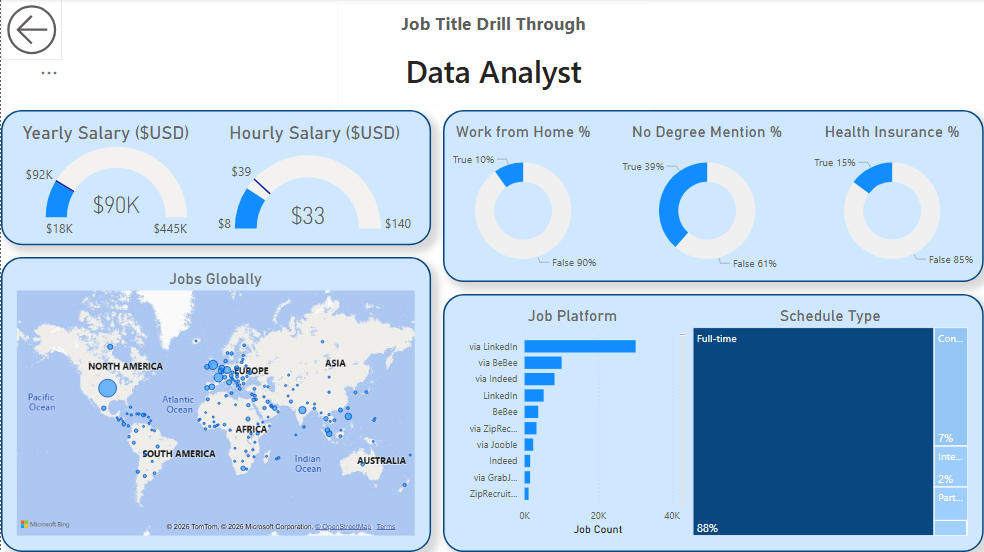

Layout of this report page (visuals, bound fields, positions):
{"tool":"powerbi","page":{"name":"Job Title Drill Through","canvas":[1280,720],"ordinal":1},"visuals":[{"type":"group","id":"g1","title":"Background","box":[0,144,1280,576],"z":0},{"type":"shape","box":[0,144,560,176],"z":0,"group":"g1"},{"type":"shape","box":[576,144,704,224],"z":1000,"group":"g1"},{"type":"gauge","title":"Yearly Salary ($USD)","fields":{"Y":["Median(job_postings_flat.salary_year_avg)"],"MinValue":["Min(job_postings_flat.salary_year_avg)1"],"MaxValue":["Max(job_postings_flat.salary_year_avg)2"],"TargetValue":["Avg(job_postings_flat.salary_year_avg)3"]},"box":[0,160,272,160],"z":1000},{"type":"gauge","title":"Hourly Salary ($USD)","fields":{"Y":["Median(job_postings_flat.salary_hour_avg)"],"MinValue":["Min(job_postings_flat.salary_hour_avg)1"],"MaxValue":["Max(job_postings_flat.salary_hour_avg)2"],"TargetValue":["Avg(job_postings_flat.salary_hour_avg)3"]},"box":[272,160,272,160],"z":2000},{"type":"shape","box":[576,384,704,336],"z":2000,"group":"g1"},{"type":"donutChart","title":"Work from Home %","fields":{"Category":["job_postings_flat.job_work_from_home"],"Y":["CountNonNull(job_postings_flat.job_work_from_home)"]},"box":[560,160,240,208],"z":3000},{"type":"shape","box":[0,336,560,384],"z":3000,"group":"g1"},{"type":"donutChart","title":"No Degree Mention %","fields":{"Category":["job_postings_flat.job_no_degree_mention"],"Y":["CountNonNull(job_postings_flat.job_no_degree_mention)"]},"box":[800,160,240,208],"z":4000},{"type":"donutChart","title":"Health Insurance %","fields":{"Category":["job_postings_flat.job_health_insurance"],"Y":["CountNonNull(job_postings_flat.job_health_insurance)"]},"box":[1040,160,240,208],"z":5000},{"type":"map","title":"Jobs Globally","fields":{"Category":["job_postings_flat.job_country"],"Size":["CountNonNull(job_postings_flat.job_title_short)"]},"box":[16,352,528,352],"z":6000},{"type":"clusteredBarChart","title":"Job Platform","fields":{"Y":["CountNonNull(job_postings_flat.job_title_short)"],"Category":["job_postings_flat.job_via"]},"box":[592,400,304,304],"z":7000},{"type":"cardVisual","title":"Job Title Drill Through","fields":{"Data":["Min(job_postings_flat.job_title_short)"]},"box":[432,0,416,144],"z":8000},{"type":"actionButton","box":[0,0,80,80],"z":9000},{"type":"treemap","title":"Schedule Type","fields":{"Group":["job_postings_flat.job_schedule_type"],"Values":["CountNonNull(job_postings_flat.job_schedule_type)"]},"box":[896,400,368,304],"z":10000}]}

Visuals, with their boxes in screenshot pixels (x1, y1, x2, y2):
"Background" group: left=13, top=111, right=979, bottom=546
shape: left=13, top=111, right=435, bottom=244
shape: left=447, top=111, right=979, bottom=280
"Yearly Salary ($USD)" gauge: left=13, top=123, right=218, bottom=244
"Hourly Salary ($USD)" gauge: left=218, top=123, right=423, bottom=244
shape: left=447, top=292, right=979, bottom=546
"Work from Home %" donutChart: left=435, top=123, right=616, bottom=280
shape: left=13, top=256, right=435, bottom=546
"No Degree Mention %" donutChart: left=616, top=123, right=798, bottom=280
"Health Insurance %" donutChart: left=798, top=123, right=979, bottom=280
"Jobs Globally" map: left=25, top=268, right=423, bottom=534
"Job Platform" clusteredBarChart: left=460, top=304, right=689, bottom=534
"Job Title Drill Through" cardVisual: left=339, top=3, right=653, bottom=111
actionButton: left=13, top=3, right=73, bottom=63
"Schedule Type" treemap: left=689, top=304, right=967, bottom=534
